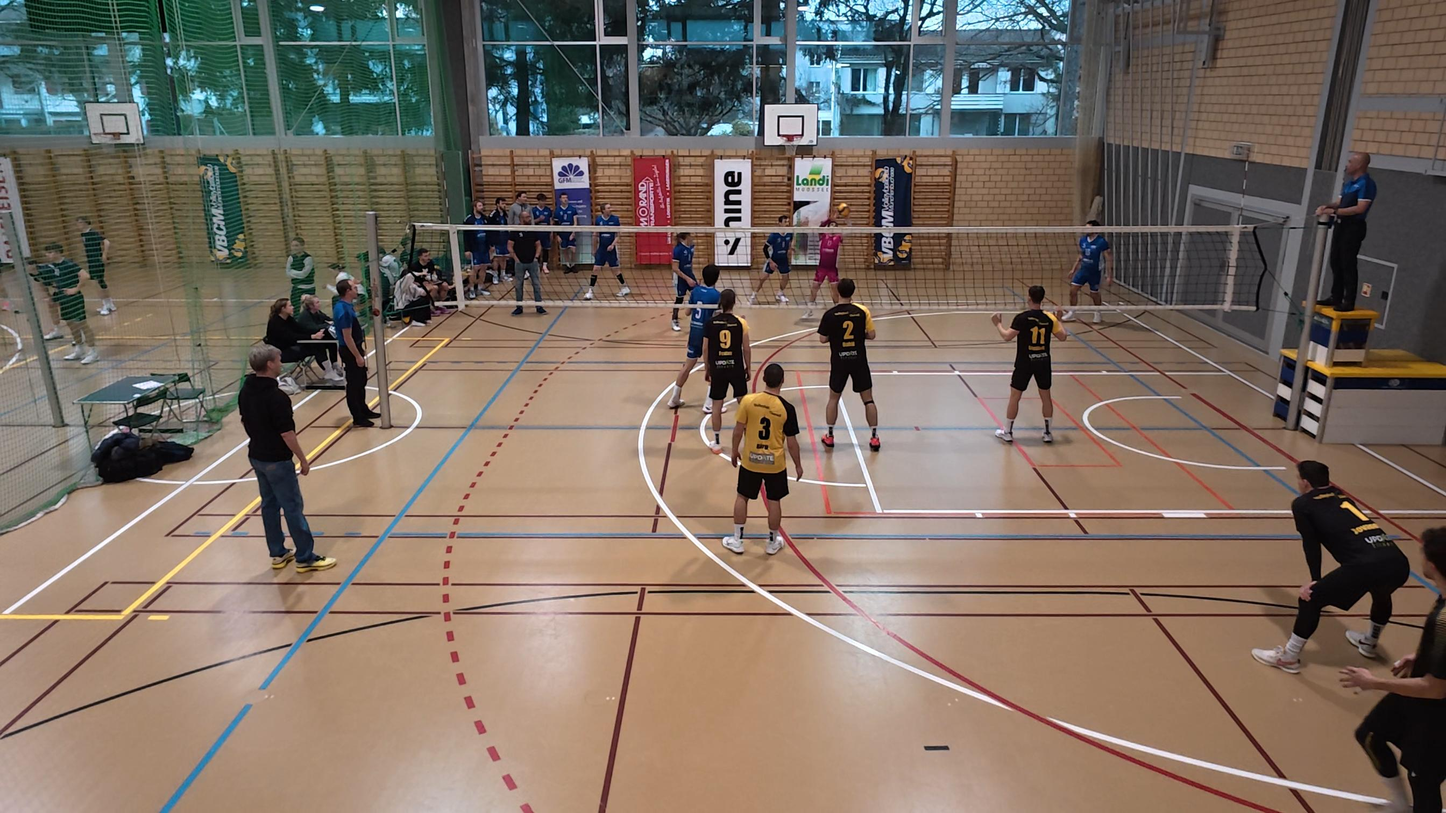Player: (1330, 518, 1446, 813), (1252, 460, 1412, 673), (722, 362, 804, 554), (814, 277, 880, 450), (995, 286, 1066, 443), (695, 289, 753, 452), (671, 267, 725, 411), (1062, 219, 1113, 326), (583, 201, 631, 300), (750, 215, 797, 306), (668, 227, 700, 334)
Receive: (805, 198, 848, 330)
ball: (833, 200, 850, 215)
